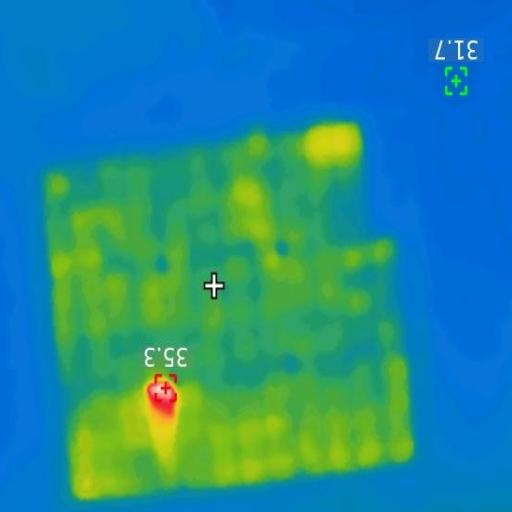hotspot: (140, 365, 184, 425)
